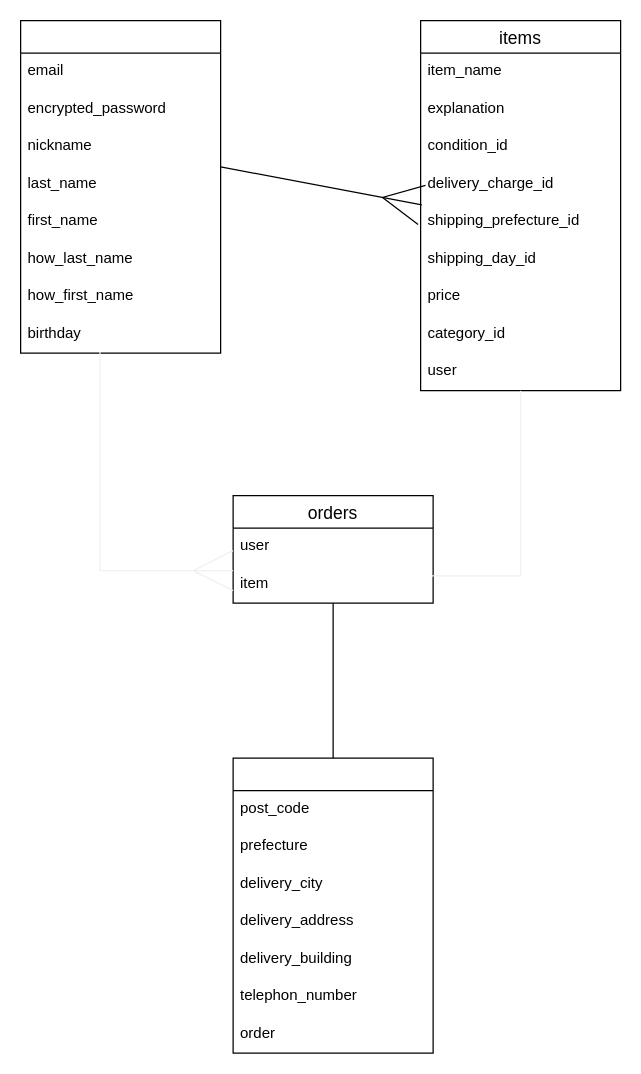
This 641x1074 diagram has some shape labels left out. Each missing label, with the box of its shape:
addresses: (232, 757, 433, 1053)
users: (19, 19, 221, 353)
